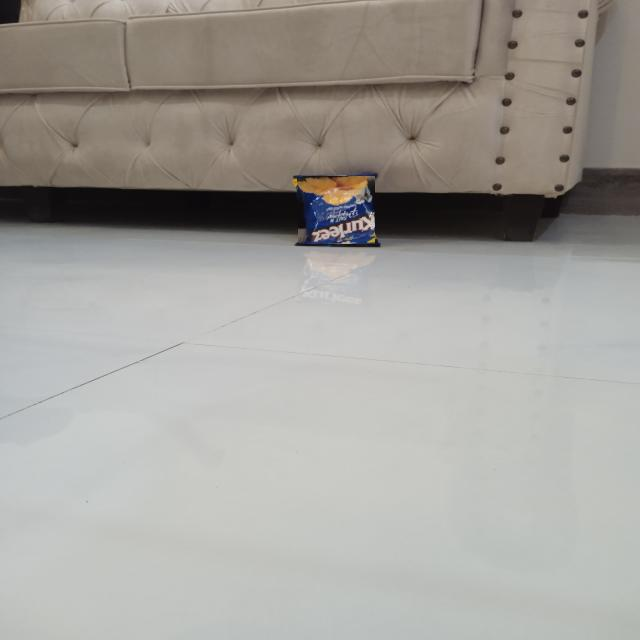Plastic: (298, 176, 376, 244)
